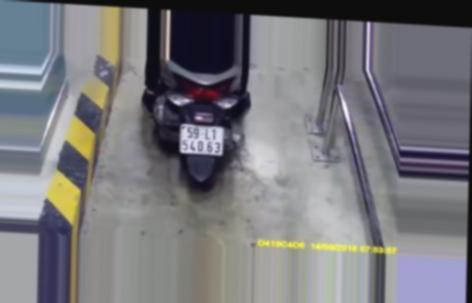License_Plate: (172, 119, 229, 162)
